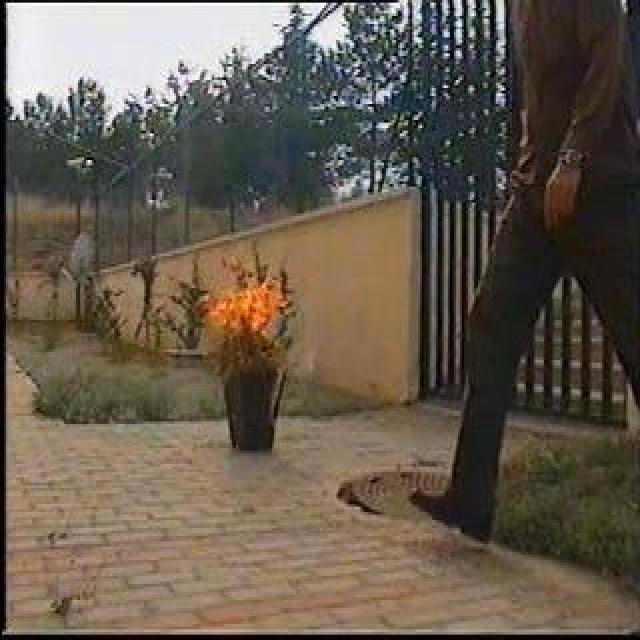fire: (199, 271, 279, 337)
